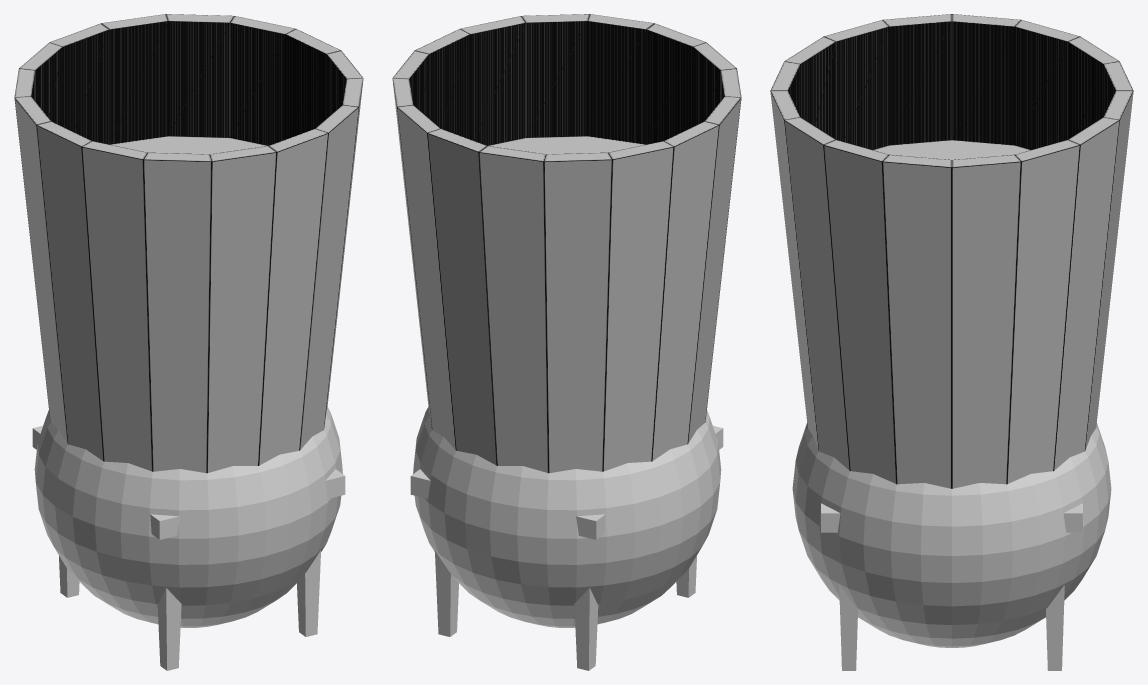
The model's file is cup.fbx.
The picture shows the model from 3 angles, left to right: view 1: azimuth 30°, elevation 25°; view 2: azimuth 150°, elevation 25°; view 3: azimuth 270°, elevation 25°; orthographic projection. The views are drawn at different scales.
Visible parts, largest first — view 1: Cylinder, Cube; view 2: Cylinder, Cube; view 3: Cylinder, Cube.
Boxes of the visible parts, <box> form: Cylinder: <box>14,14,363,473</box>; Cube: <box>32,407,345,670</box>; Cylinder: <box>392,14,741,473</box>; Cube: <box>410,407,723,670</box>; Cylinder: <box>770,14,1133,488</box>; Cube: <box>792,422,1111,670</box>.
Size of the model in its own units: 228 by 375 by 228.
